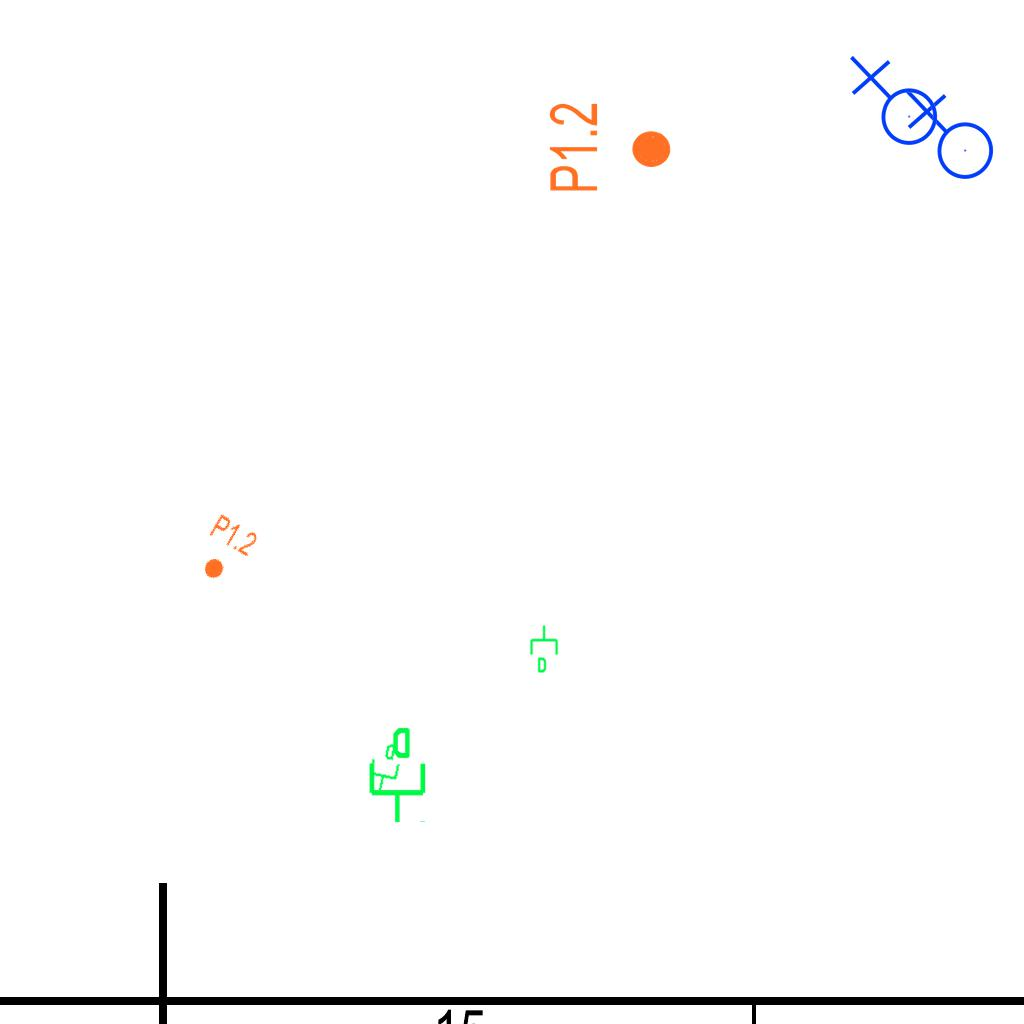Datenanschluss_einfach: (361, 725, 430, 825), (362, 739, 406, 795), (528, 624, 562, 674)
Downlight_LED_Einbauleuchten_Flur: (546, 101, 674, 194), (189, 511, 261, 591)
Elektroanschluss_allgemein_230V_Geraeteanschlussdose_230V: (901, 89, 995, 188), (845, 55, 939, 154)
